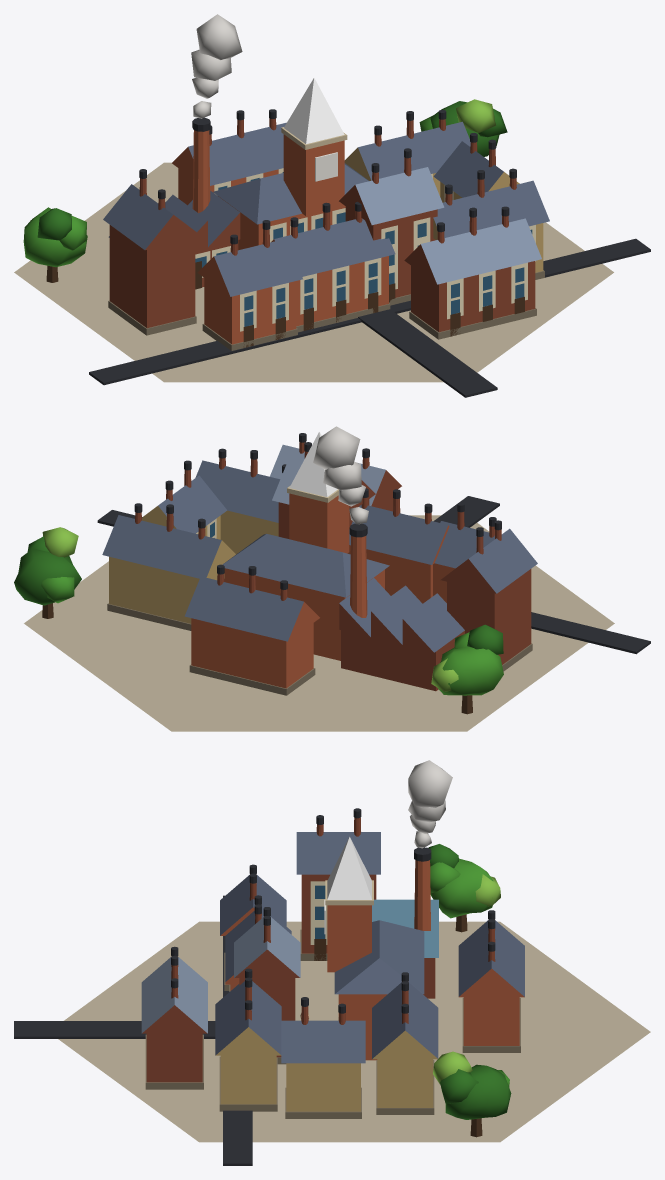
Rendered from city_2_3.fbx.
3 views of the same model, one above another, from view 1: azimuth 30°, elevation 25°; view 2: azimuth 150°, elevation 25°; view 3: azimuth 270°, elevation 25° (orthographic).
Visible parts, largest first — view 1: city_2_3; view 2: city_2_3; view 3: city_2_3.
Boxes of the visible parts, x1,y1,x2,y2 form: city_2_3: (14, 14, 650, 397); city_2_3: (14, 426, 650, 731); city_2_3: (14, 760, 650, 1165).
Size of the model in its own units: 221 by 93.86 by 222.
